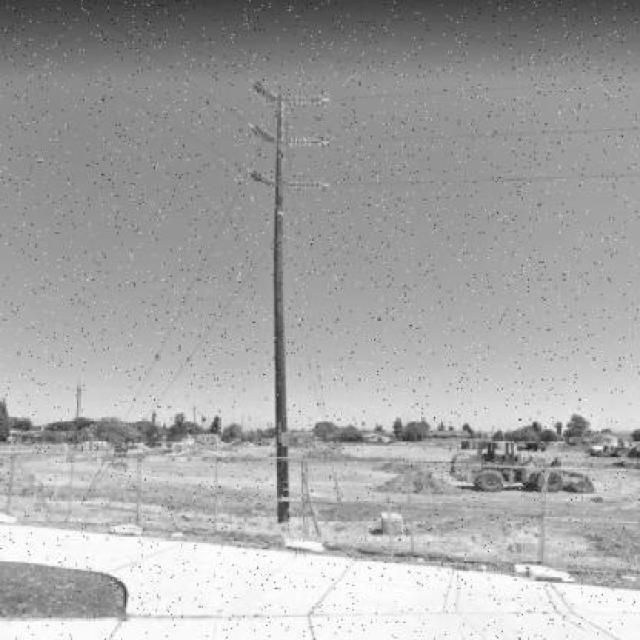light_pole: (218, 47, 340, 536)
